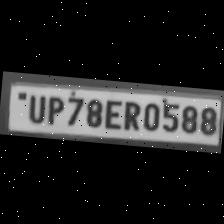0: (139, 98, 161, 131)
5: (160, 98, 180, 132)
7: (62, 92, 84, 126)
8: (196, 103, 219, 136), (82, 94, 104, 128), (178, 101, 200, 134)
E: (101, 96, 123, 130)
P: (42, 92, 66, 125)
R: (120, 96, 142, 131)
U: (22, 91, 48, 124)
